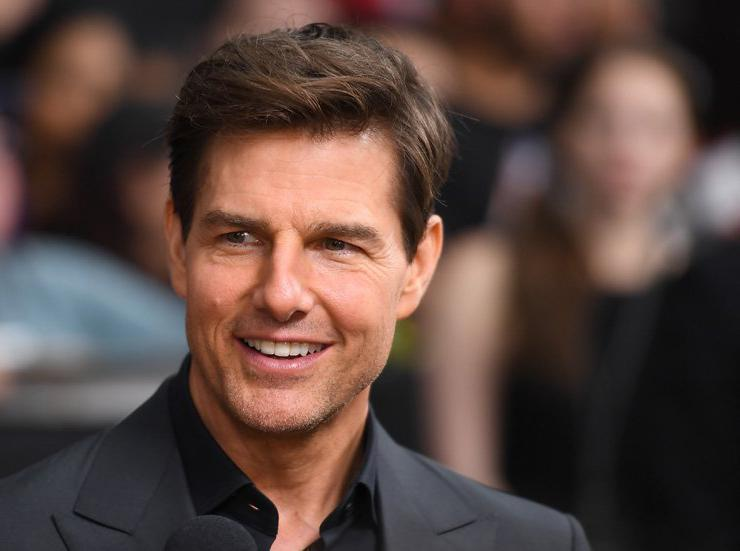Sober: (193, 139, 392, 413)
